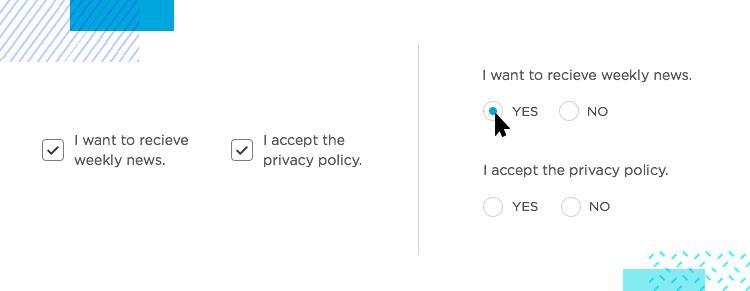checkbox: (43, 140, 65, 162), (233, 140, 254, 161)
label: (261, 127, 372, 174), (72, 130, 193, 173), (510, 197, 541, 220), (584, 104, 614, 122), (510, 103, 543, 119), (587, 199, 618, 216)
radio: (624, 268, 707, 291), (484, 103, 508, 125), (482, 198, 506, 220), (558, 102, 581, 123), (562, 196, 583, 218)
